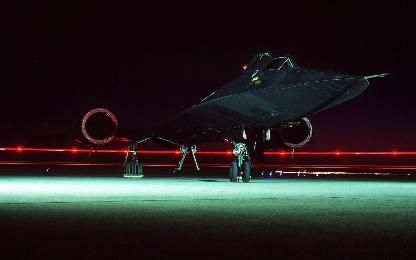Rafale: (18, 48, 390, 182)
